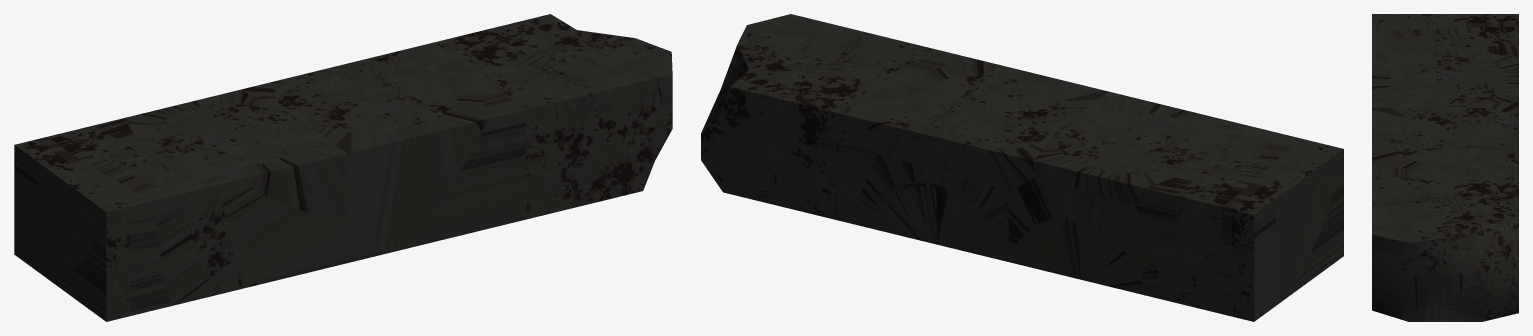
The model's file is Pillar01.FBX.
The picture shows the model from 3 angles, left to right: view 1: azimuth 30°, elevation 25°; view 2: azimuth 150°, elevation 25°; view 3: azimuth 270°, elevation 25°; orthographic projection. The views are drawn at different scales.
Parts seen in each view (by area): view 1: Box012; view 2: Box012; view 3: Box012.
Boxes of the visible parts, x1,y1,x2,y2 form: Box012: (14, 14, 672, 321); Box012: (701, 14, 1343, 321); Box012: (1372, 14, 1518, 321).
Size of the model in its own units: 21242 by 3787 by 5757.
